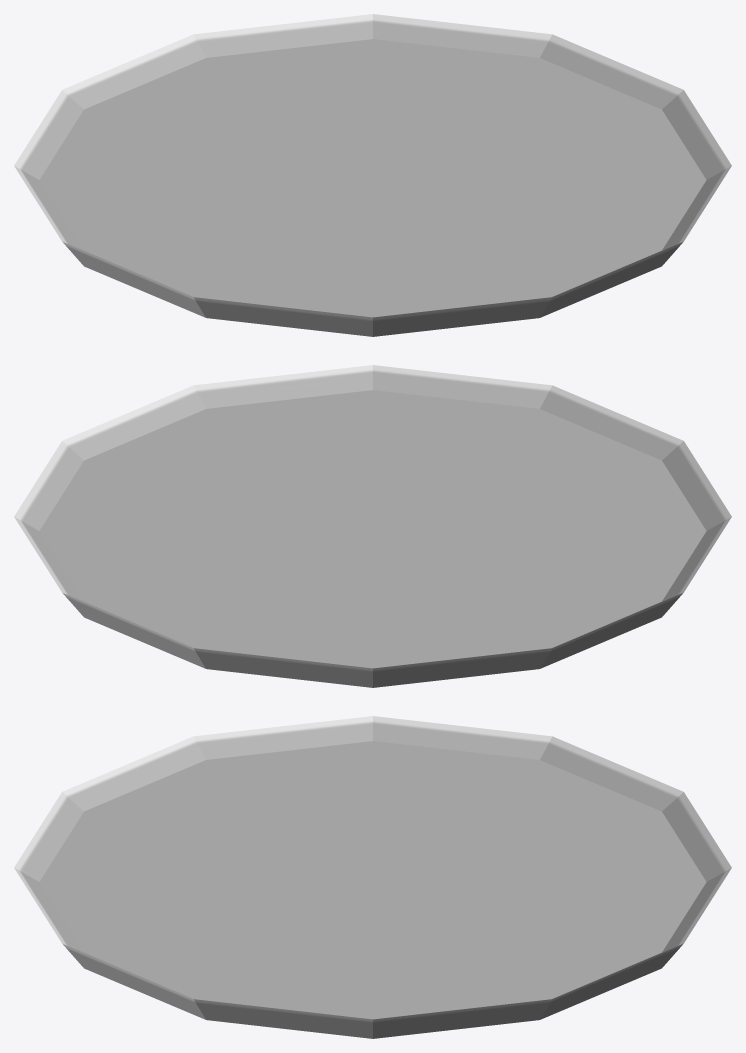
Rendered from FoodPlate.fbx.
3 views of the same model, one above another, from view 1: azimuth 30°, elevation 25°; view 2: azimuth 150°, elevation 25°; view 3: azimuth 270°, elevation 25° (orthographic).
Visible parts, largest first — view 1: Plate; view 2: Plate; view 3: Plate.
Boxes of the visible parts, <box> form: Plate: <box>14,14,731,336</box>; Plate: <box>14,365,731,687</box>; Plate: <box>14,716,731,1038</box>.
Bounding box in the file's own units: 108 × 5 × 108.
